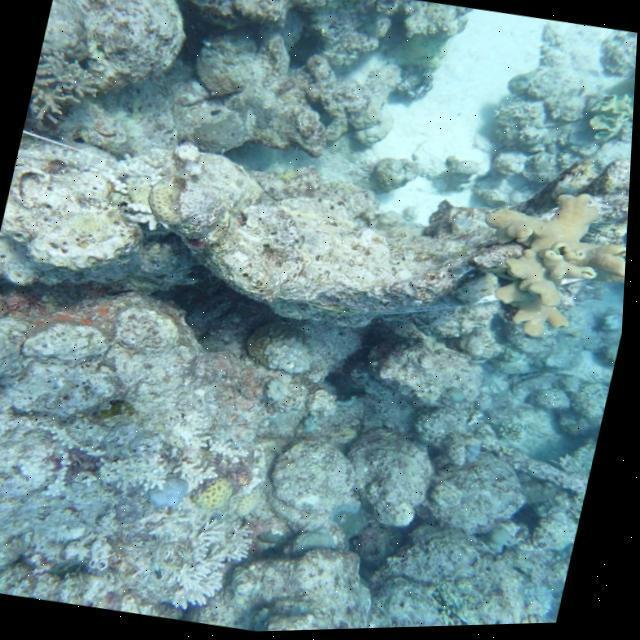Bleached Coral: (0, 394, 201, 615), (85, 112, 229, 242), (143, 497, 280, 631)
